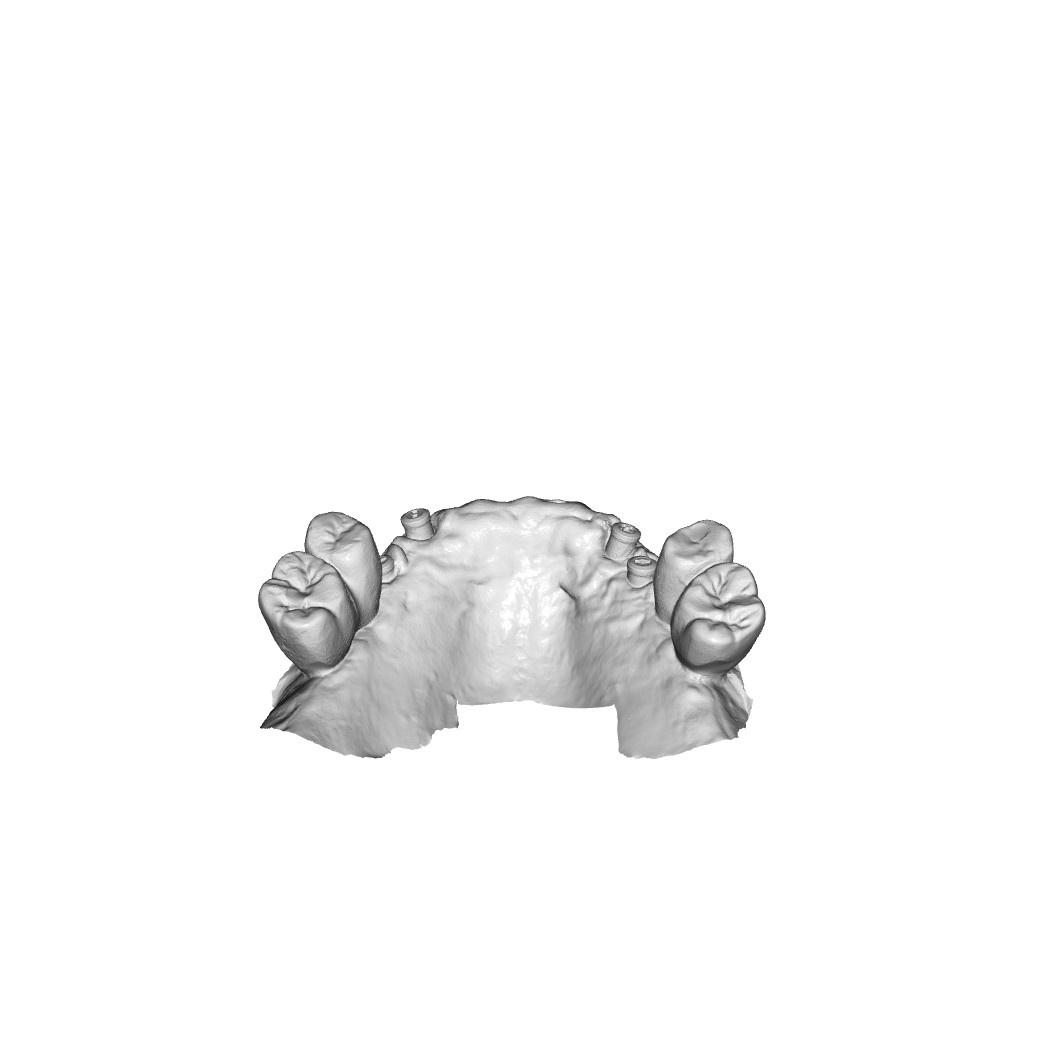implant: (601, 519, 639, 563), (400, 504, 438, 543), (627, 554, 660, 589), (378, 551, 398, 583)
molar: (672, 564, 766, 671), (254, 548, 351, 642)
premolar: (655, 516, 738, 587), (300, 508, 376, 578)
